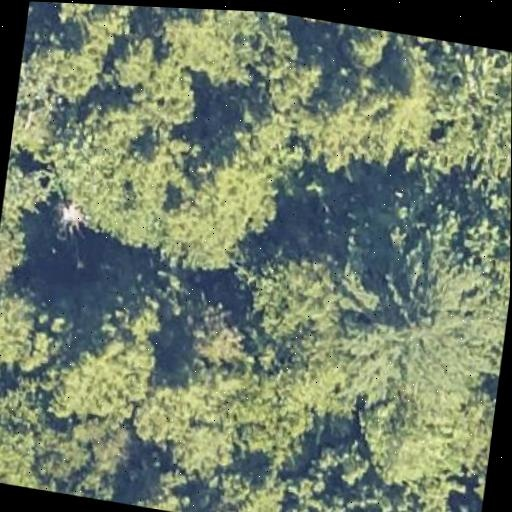tree-top: (39, 81, 298, 286), (325, 200, 511, 427), (262, 13, 438, 188), (42, 287, 166, 430), (346, 385, 495, 498), (280, 425, 470, 512), (133, 352, 253, 489), (413, 38, 512, 196), (144, 6, 291, 101), (232, 228, 349, 340), (17, 1, 136, 107), (0, 377, 102, 499), (111, 43, 214, 135), (252, 326, 353, 409), (0, 275, 75, 377), (183, 285, 260, 370), (197, 455, 299, 512), (10, 64, 63, 158), (118, 456, 201, 512), (1, 148, 57, 227), (0, 208, 48, 296)
